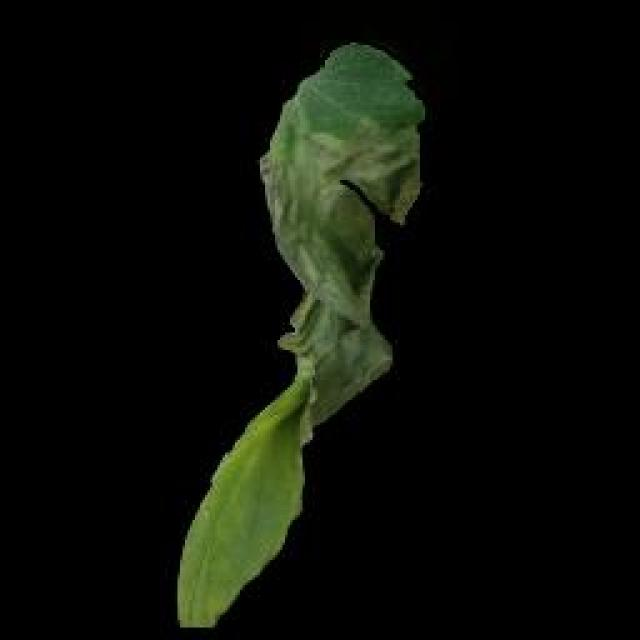Tomato Late Blight: (232, 82, 396, 420)
